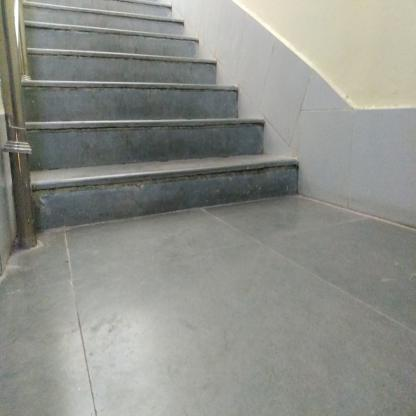stairs: (40, 11, 186, 234)
